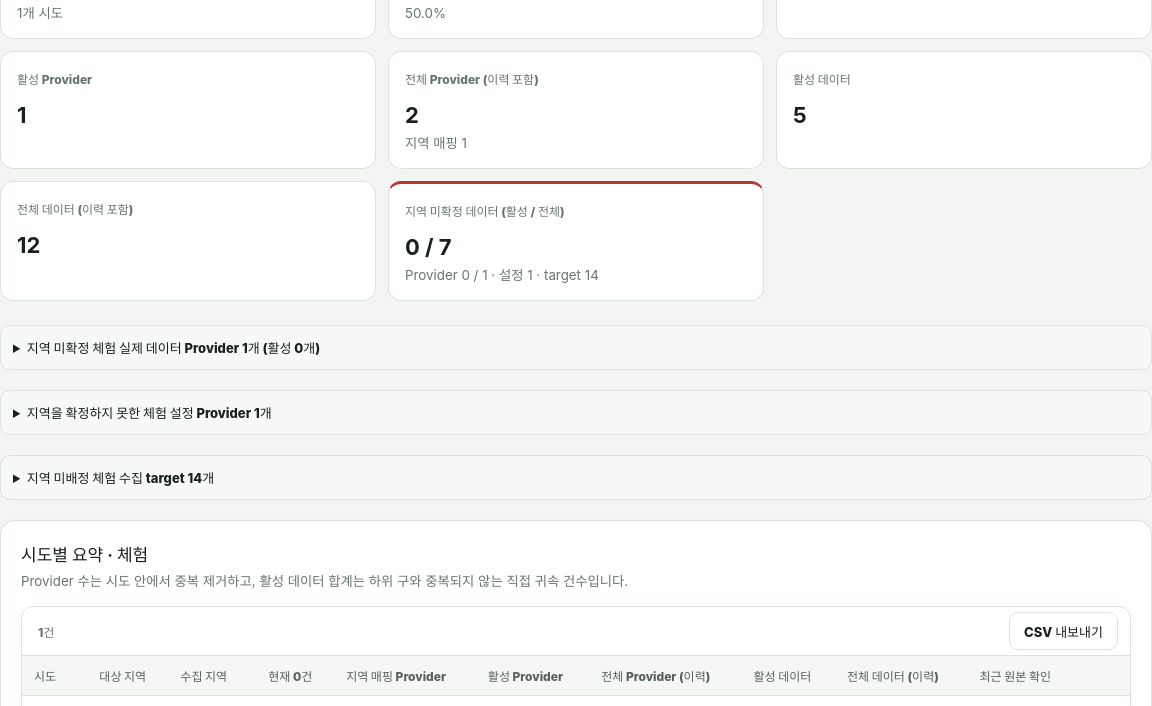
Test: RegionCoveragePage › warns about unmapped historical-only data and lists its provider
(page scrolled)
Expected: the text "지역 미확정 데이터 (활성 / 전체)" is shown, [405,204,565,219]
Expected: the text "지역 미확정 데이터 (활성 / 전체)" shows "0 / 7", [405,234,452,260]
Click the heading "지역 미확정 체험 실제 데이터 Provider 1개 (활성 0개)".
click(174, 348)  # box [27,340,320,356]
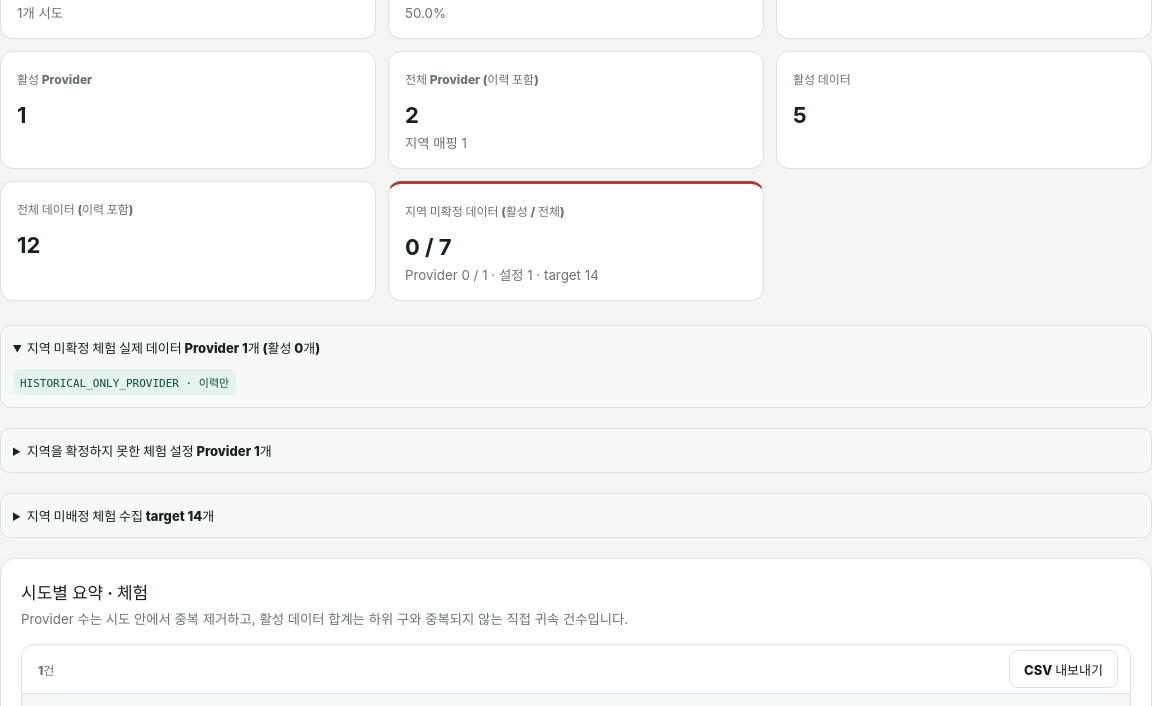
Now the text "HISTORICAL_ONLY_PROVIDER · 이력만" is shown, box [13,369,236,395]
